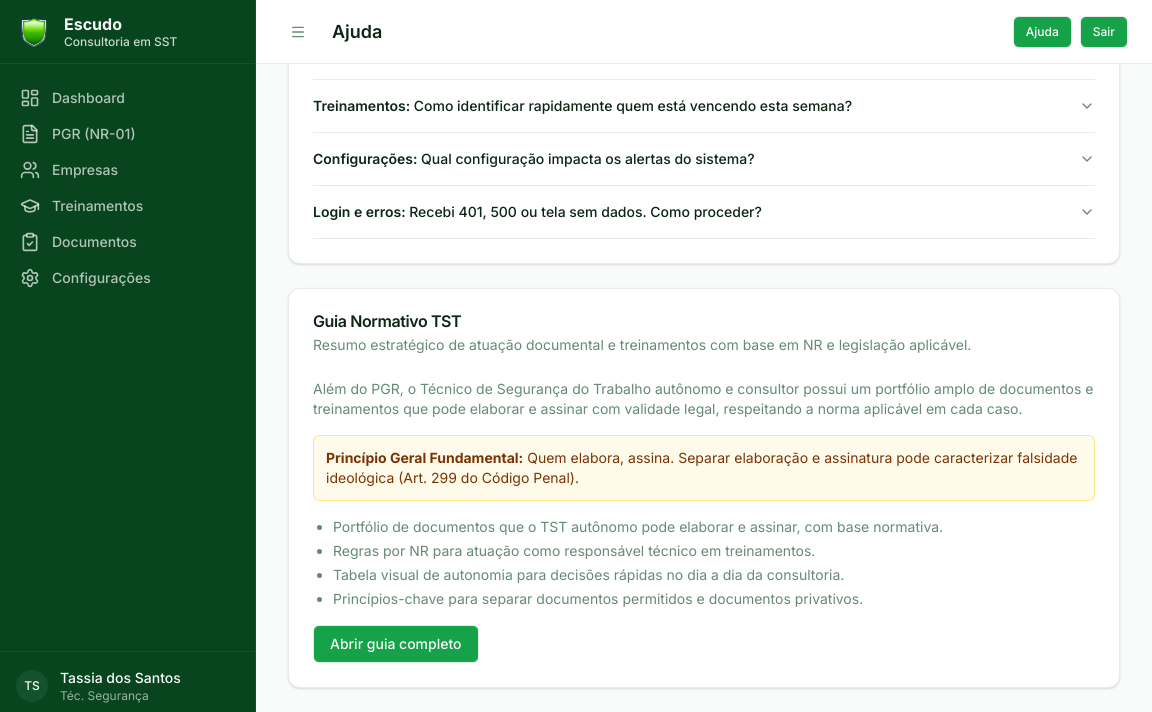
Help page › opens complete guide when clicking Abrir guia completo
This screenshot has width=1152, height=712.
(page scrolled)
Click the button "Abrir guia completo" at (396, 644), box [313,625,478,663]
(page scrolled)
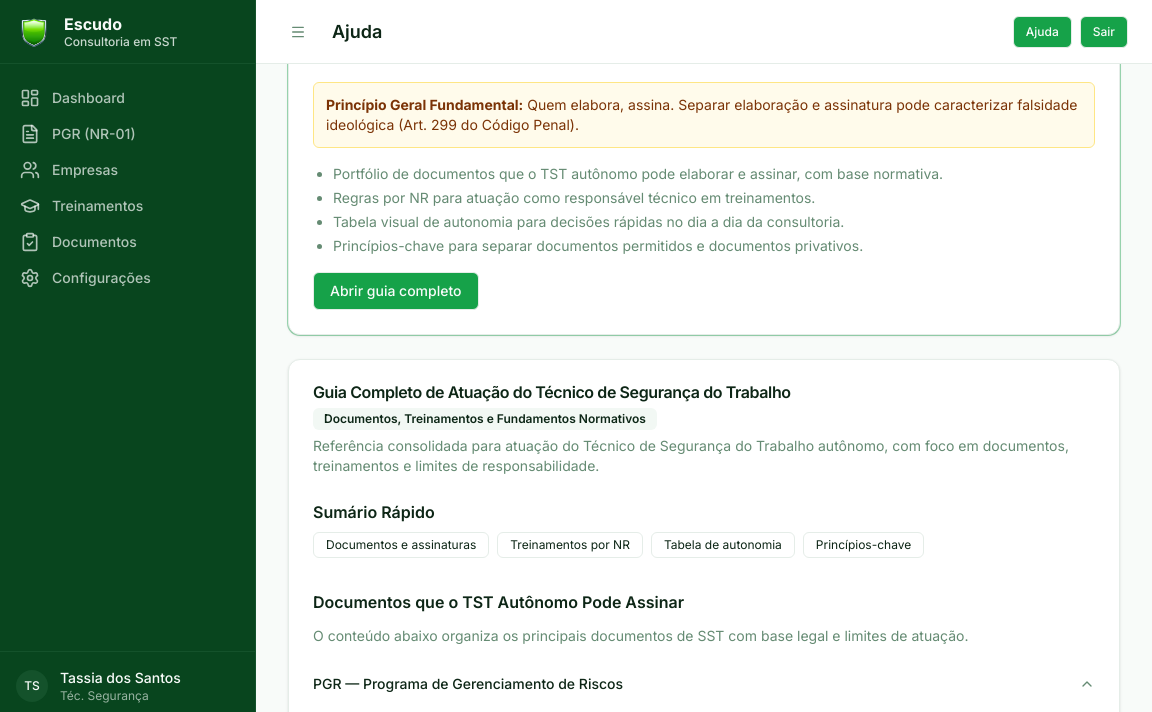
Result: the text "Guia Completo de Atuação do Técnico de Segurança do Trabalho" is shown at [313,384,791,400]
